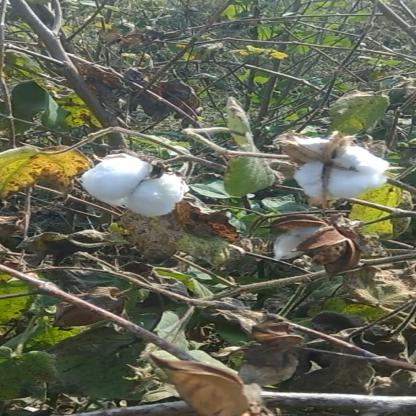cotton_ready: (59, 146, 211, 224), (281, 128, 391, 208)
